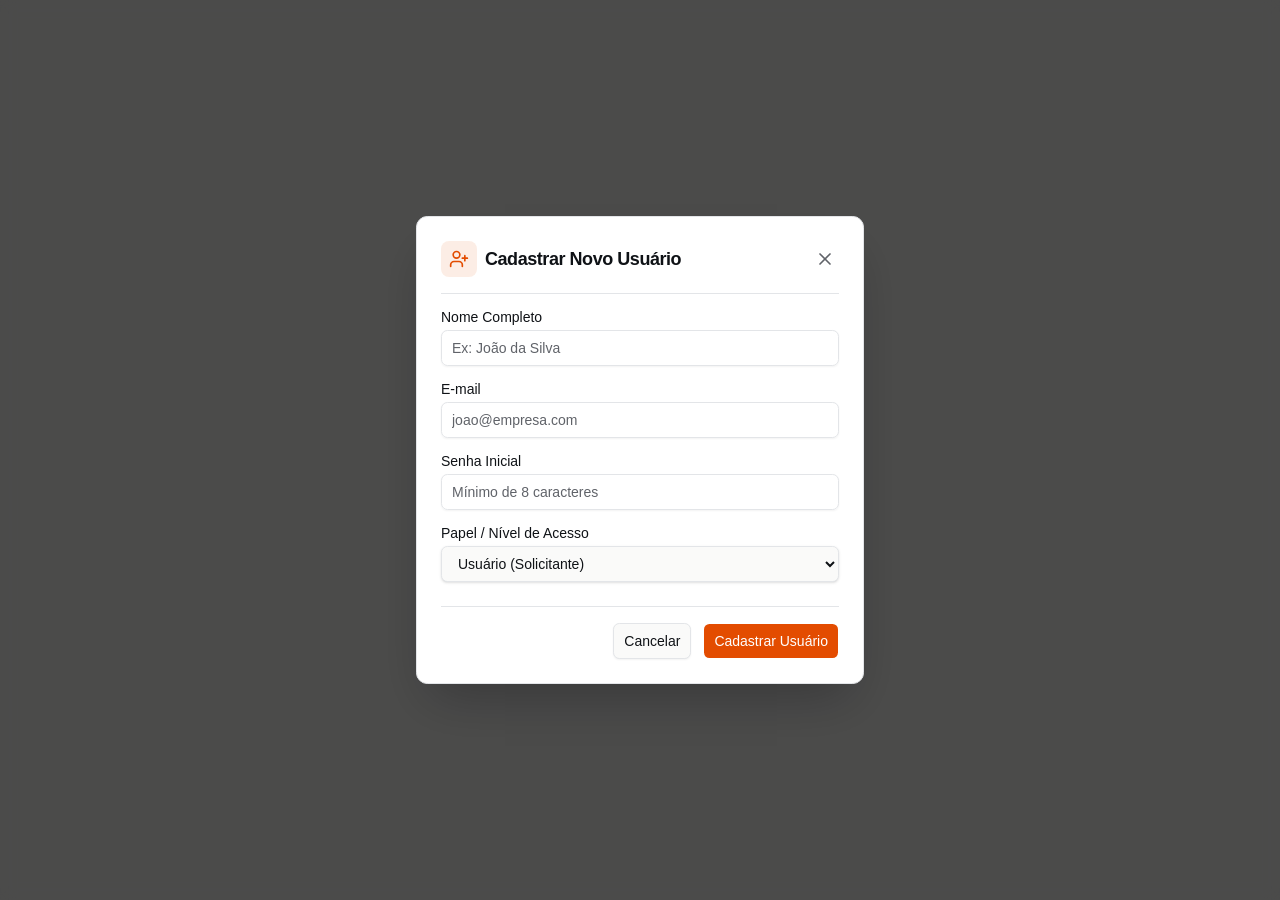
CreateUserModal › deve exibir erro de validação para senha com menos de 8 caracteres
Type "Fulano Teste" into the field labelled "Nome Completo". click: [640, 348]
box: [441, 330, 839, 366]
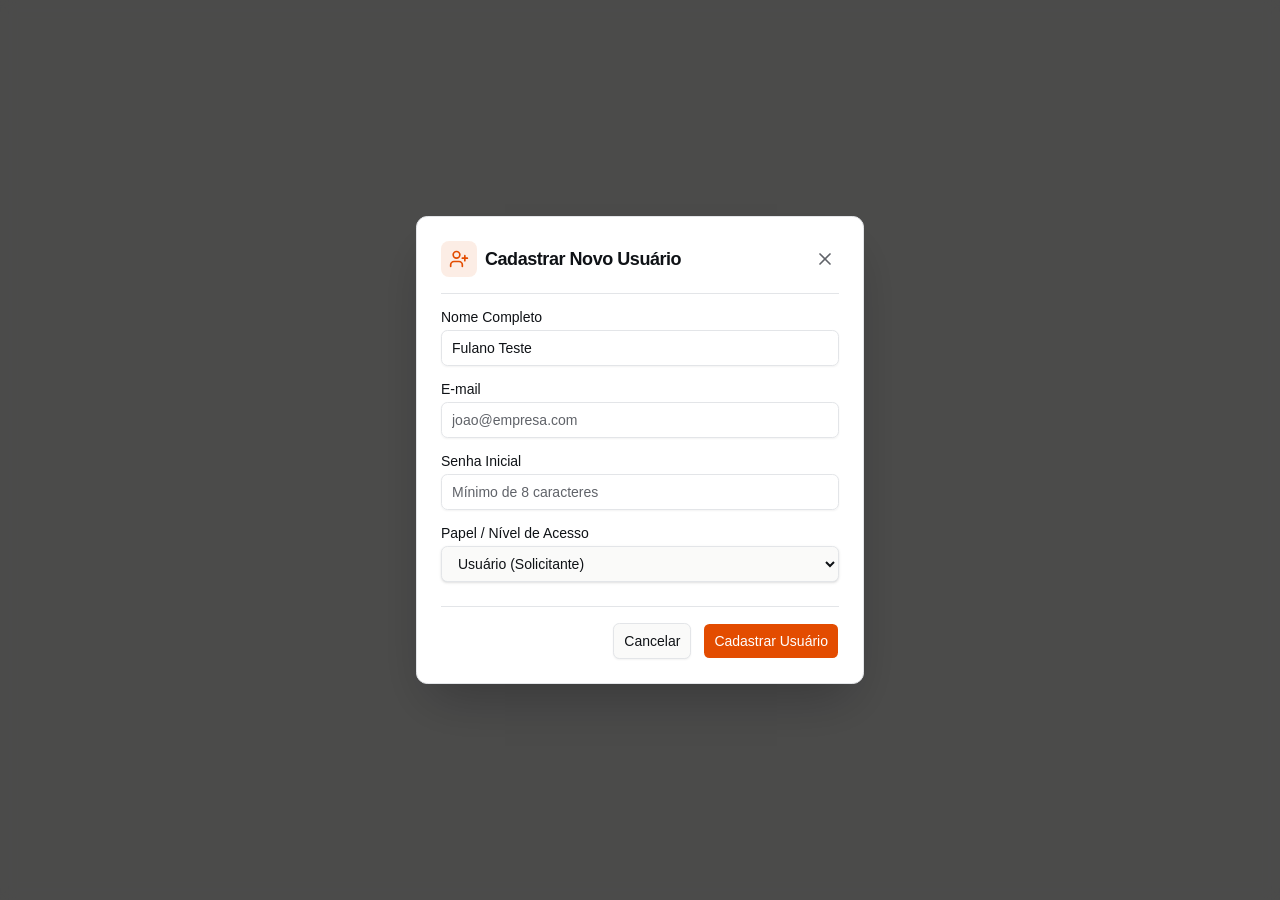
Type "fulano@exemplo.com" into the field labelled "E-mail". click: [640, 420]
box: [441, 402, 839, 438]
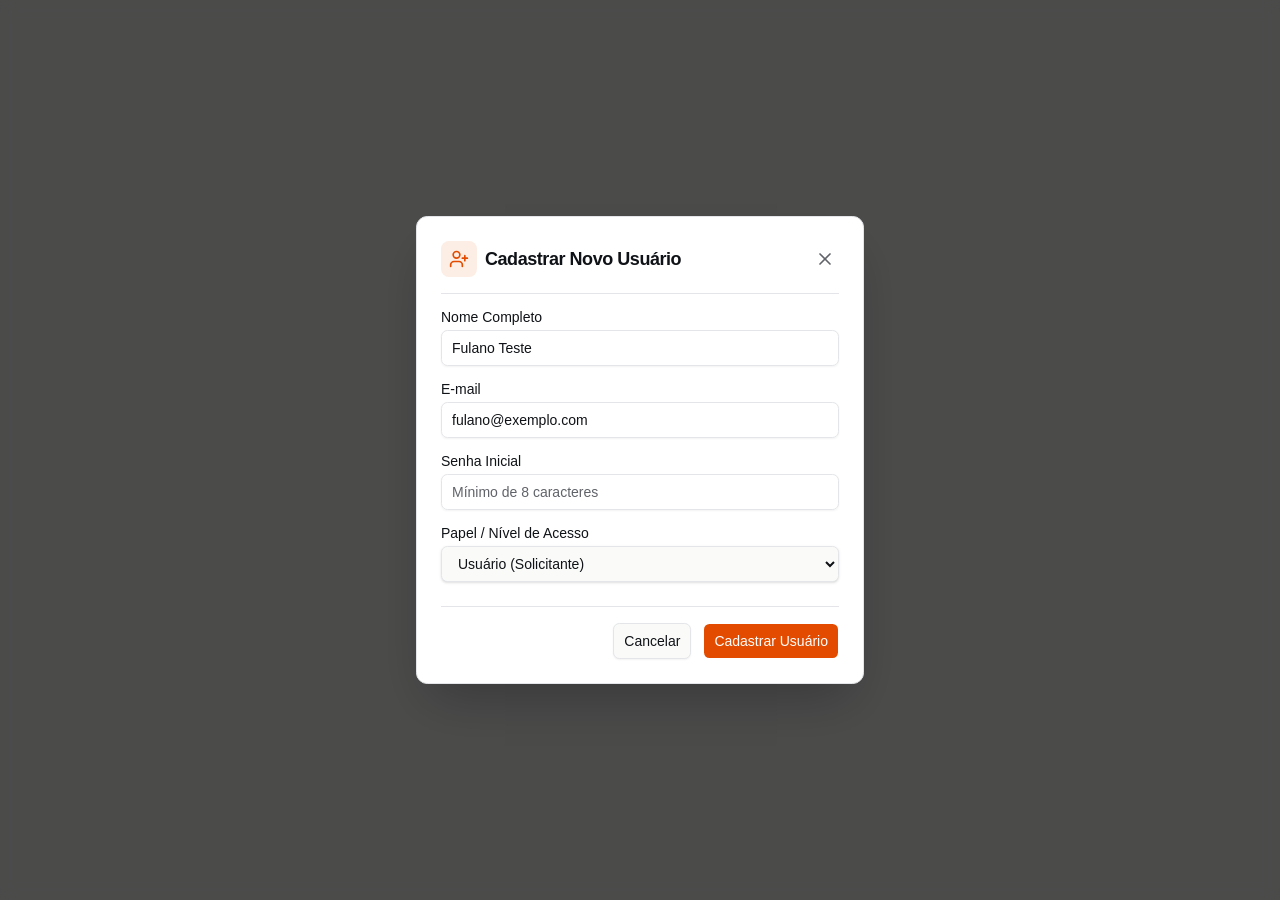
Type "123" into the password field labelled "Senha Inicial". click: [640, 492]
box: [441, 474, 839, 510]
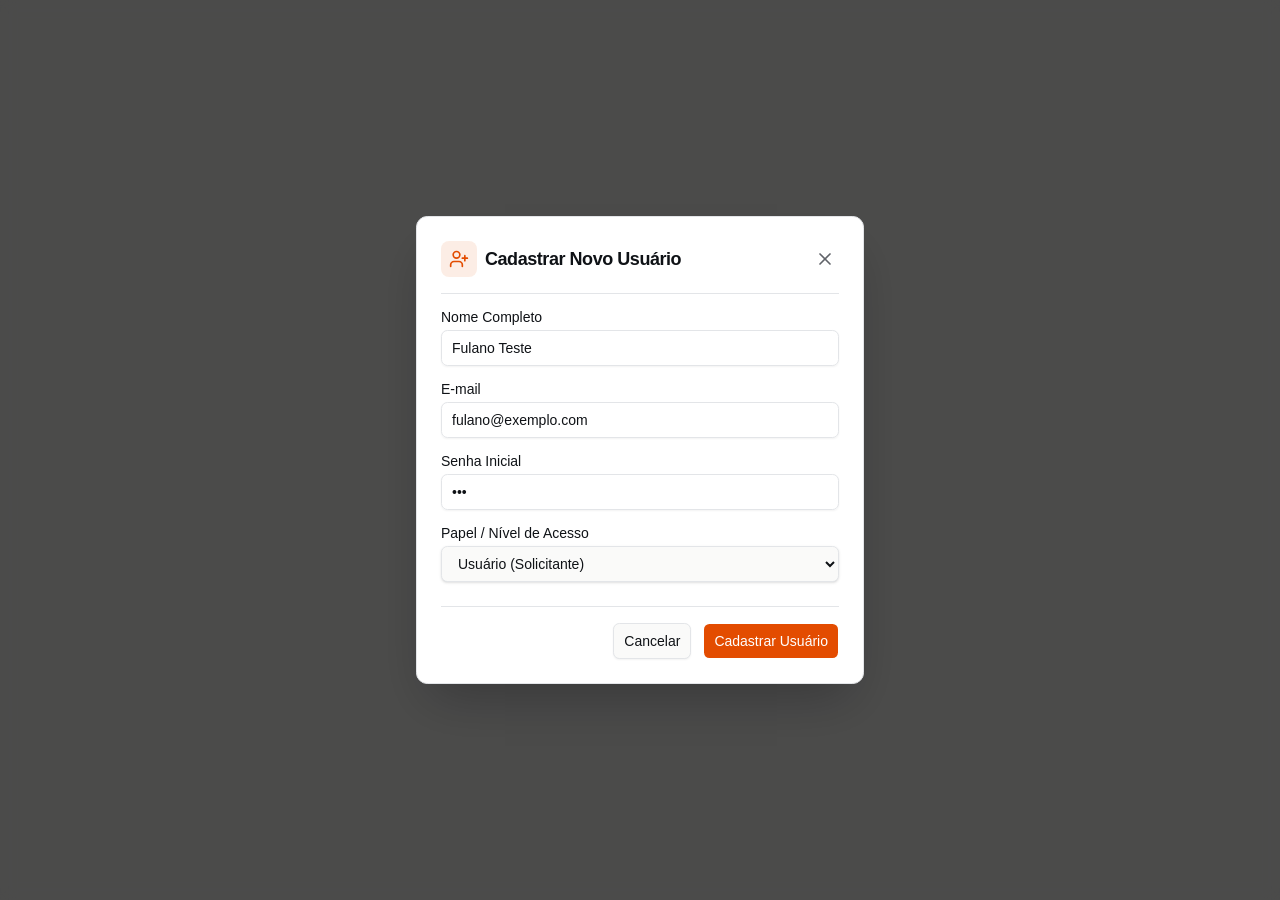
Click the button "Cadastrar Usuário". click: [771, 641]
box: [703, 623, 839, 659]
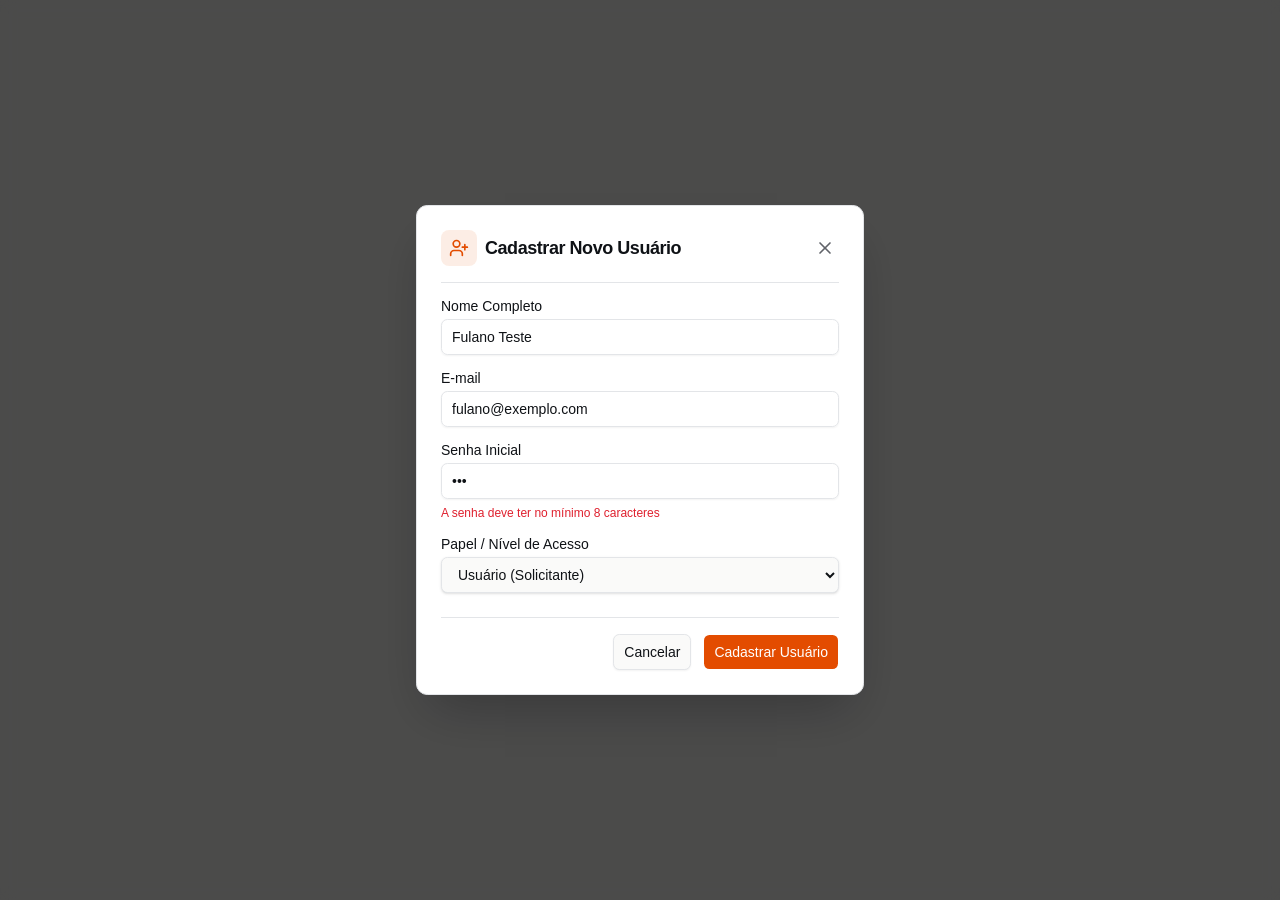
Check: the text "A senha deve ter no mínimo 8 caracteres" is shown, box [441, 506, 660, 520]
